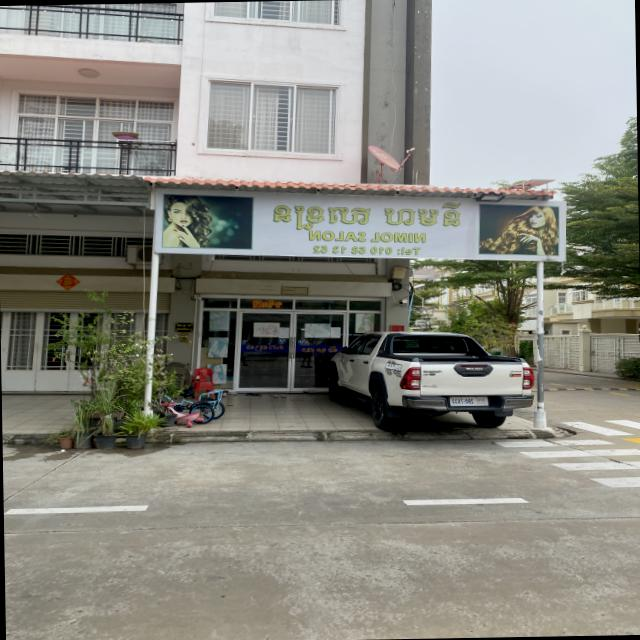1: (270, 199, 466, 233)
227: (310, 243, 394, 255)
631: (469, 398, 473, 403)
834: (451, 397, 464, 404)
Yolov11kh: (244, 342, 285, 352), (299, 344, 339, 353), (250, 299, 285, 309), (475, 398, 485, 401)
